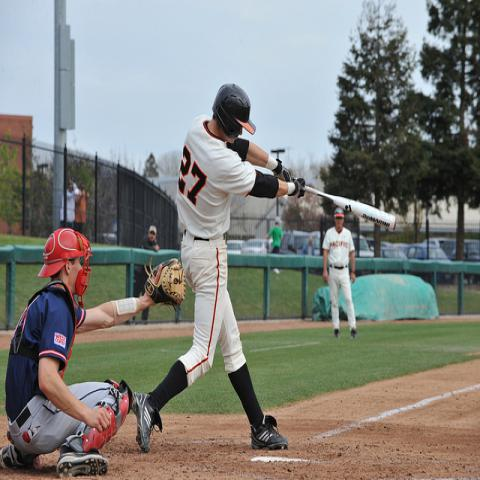car: (404, 240, 452, 260), (277, 231, 314, 253), (424, 238, 456, 260), (352, 233, 375, 257), (240, 236, 267, 254), (463, 239, 479, 262), (380, 247, 407, 259), (227, 239, 245, 254), (311, 231, 320, 255)
